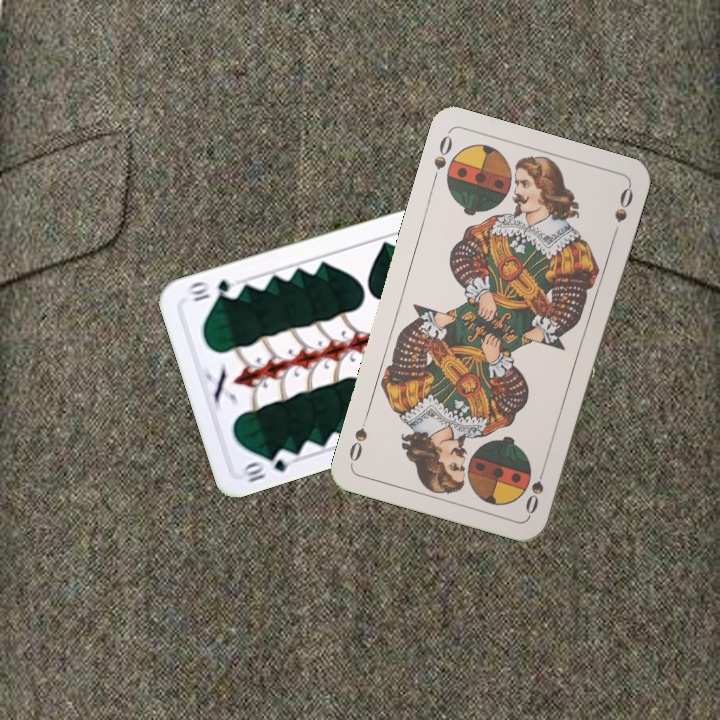G10: (238, 445, 297, 485)
SO: (521, 460, 550, 517), (428, 131, 455, 187)
